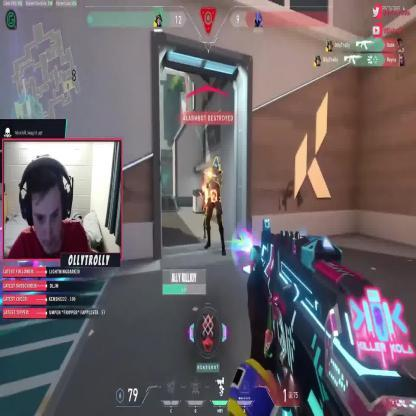enemy: (204, 156, 226, 256), (203, 199, 211, 239)
enemy_head: (212, 157, 220, 173)
